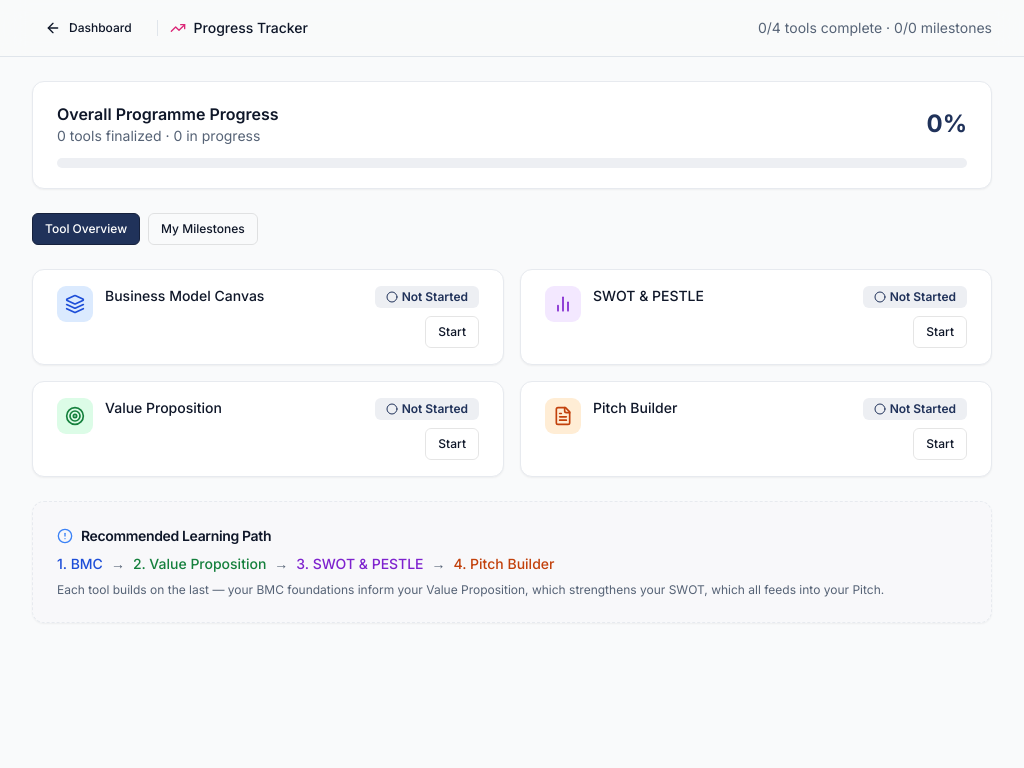
ProgressTrackerTool › switching to Milestones shows the milestone input
This screenshot has width=1024, height=768.
Click the button with test id "button-tab-milestones".
click(203, 229)  # box [148, 213, 258, 245]
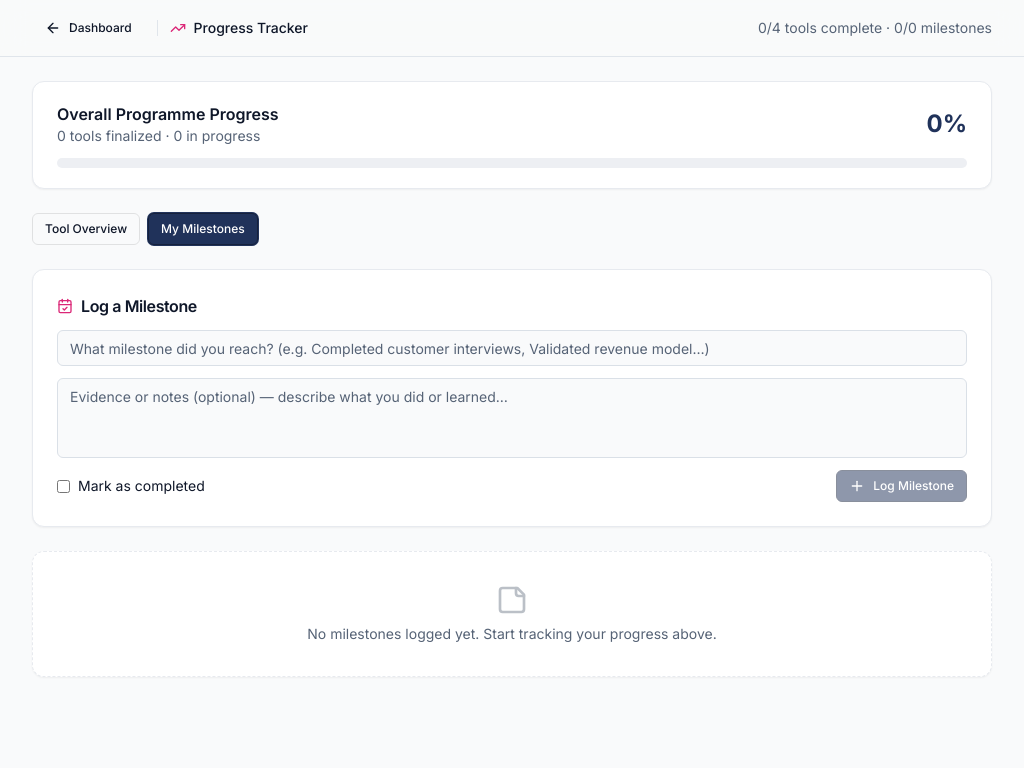
Expected: the field with test id "input-milestone" is shown, [57, 330, 967, 366]
